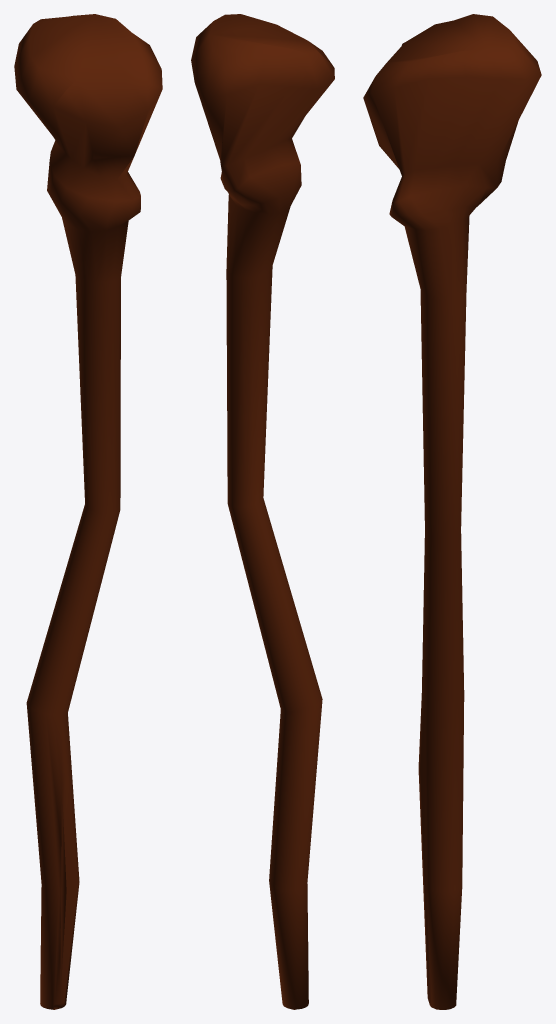
Rendered from Staff_Starter.fbx.
The picture shows the model from 3 angles, left to right: view 1: azimuth 30°, elevation 25°; view 2: azimuth 150°, elevation 25°; view 3: azimuth 270°, elevation 25°; orthographic projection. The views are drawn at different scales.
Visible parts, largest first — view 1: Staff_Starter; view 2: Staff_Starter; view 3: Staff_Starter.
Boxes of the visible parts, x1,y1,x2,y2 form: Staff_Starter: (14,14,162,1009); Staff_Starter: (191,14,334,1009); Staff_Starter: (363,14,541,1009).
Bounding box in the file's own units: 6.54 × 49.82 × 8.12.
